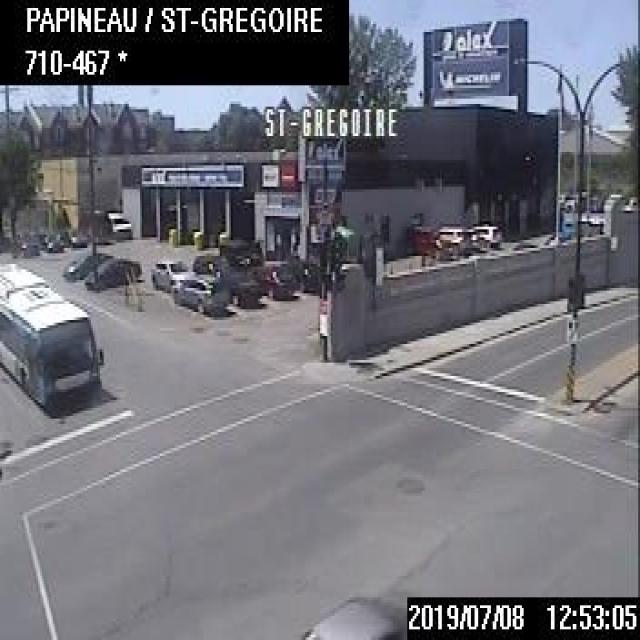bus: (0, 254, 104, 414)
vehicle: (300, 595, 405, 637), (170, 270, 230, 316), (84, 254, 138, 289), (217, 269, 259, 308), (62, 249, 110, 282), (407, 224, 451, 258), (252, 262, 292, 296), (150, 260, 192, 290), (435, 224, 463, 256), (193, 253, 229, 275), (103, 210, 131, 238), (471, 224, 499, 246), (64, 228, 86, 246), (44, 230, 62, 249)
